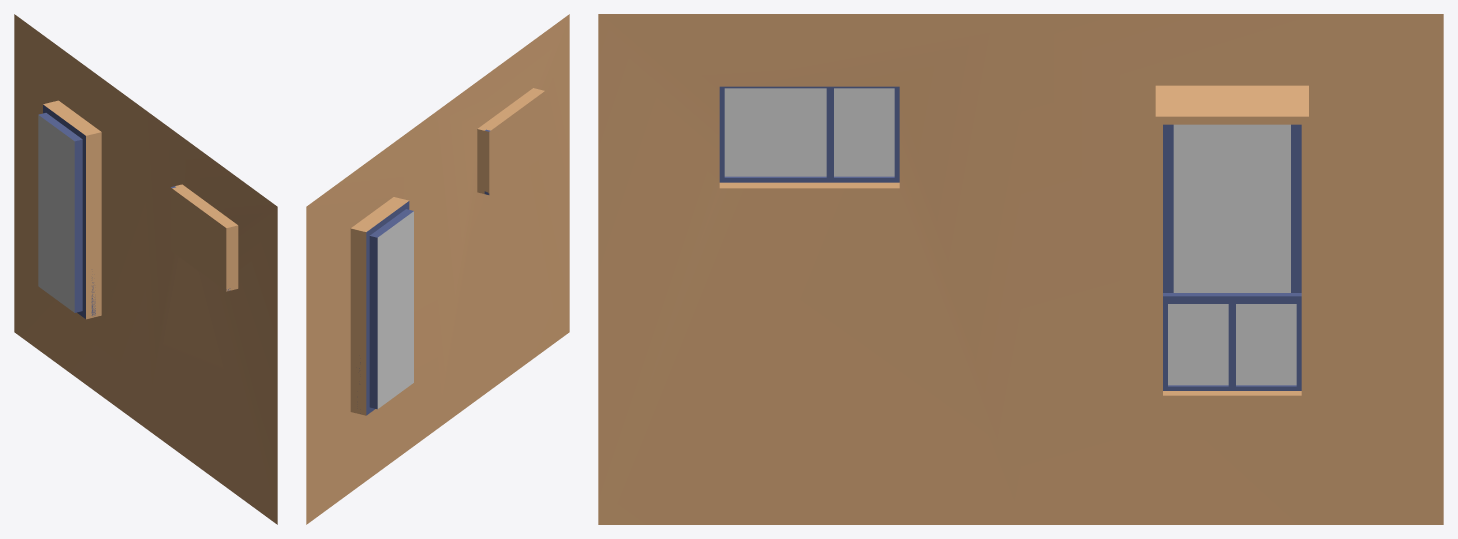
File: sm_janela_03.fbx
3 renders of one model, left to right at view 1: azimuth 30°, elevation 25°; view 2: azimuth 150°, elevation 25°; view 3: azimuth 270°, elevation 25°, orthographic. The views are drawn at different scales.
Visible parts, largest first — view 1: sm_janela_03; view 2: sm_janela_03; view 3: sm_janela_03.
Part boxes in pixels (bbox=[...]): sm_janela_03: bbox=[14, 14, 277, 524]; sm_janela_03: bbox=[306, 14, 569, 524]; sm_janela_03: bbox=[598, 14, 1443, 524].
Size of the model in its own units: 0.7131 by 4 by 6.
